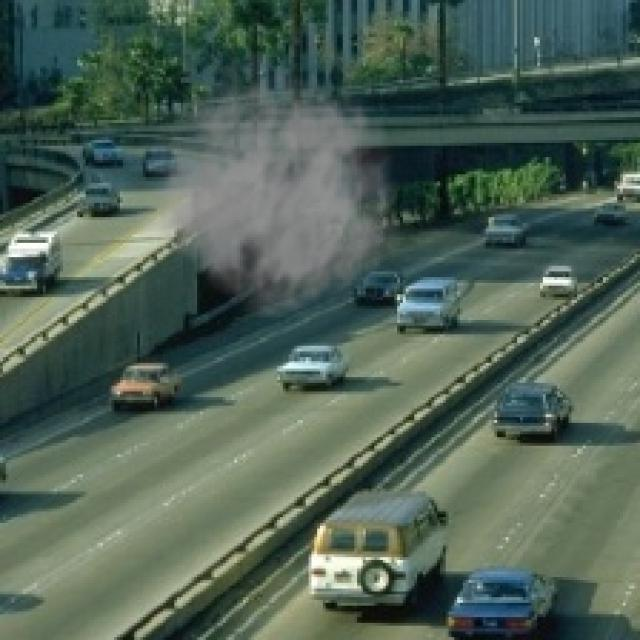smoke: (134, 49, 406, 320)
